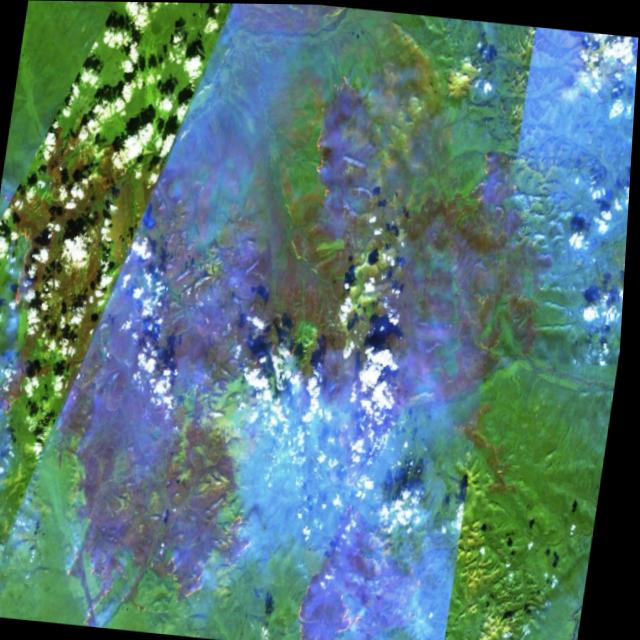fire: (298, 100, 353, 209), (0, 210, 42, 320), (469, 137, 514, 205), (255, 316, 307, 369), (0, 353, 32, 438), (325, 68, 359, 99)
